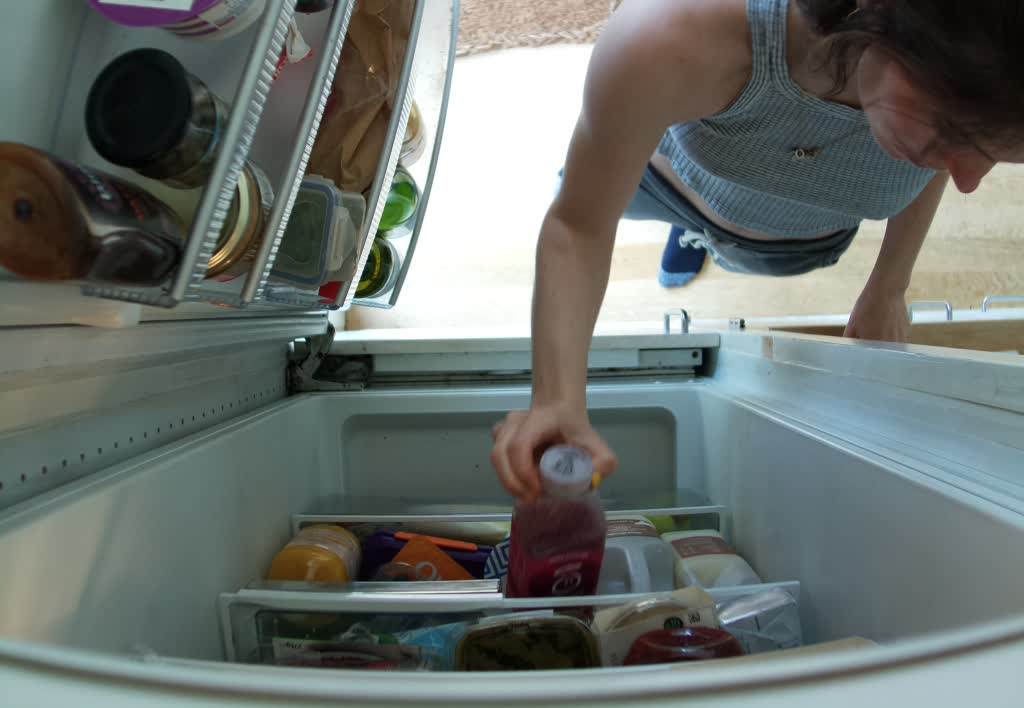juice: (501, 443, 605, 598)
